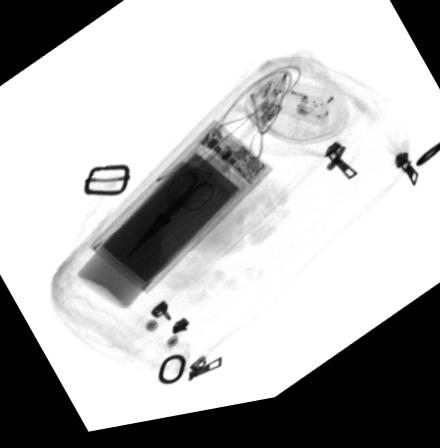Powerbank: (84, 126, 271, 299)
Scissors: (123, 178, 213, 264)
